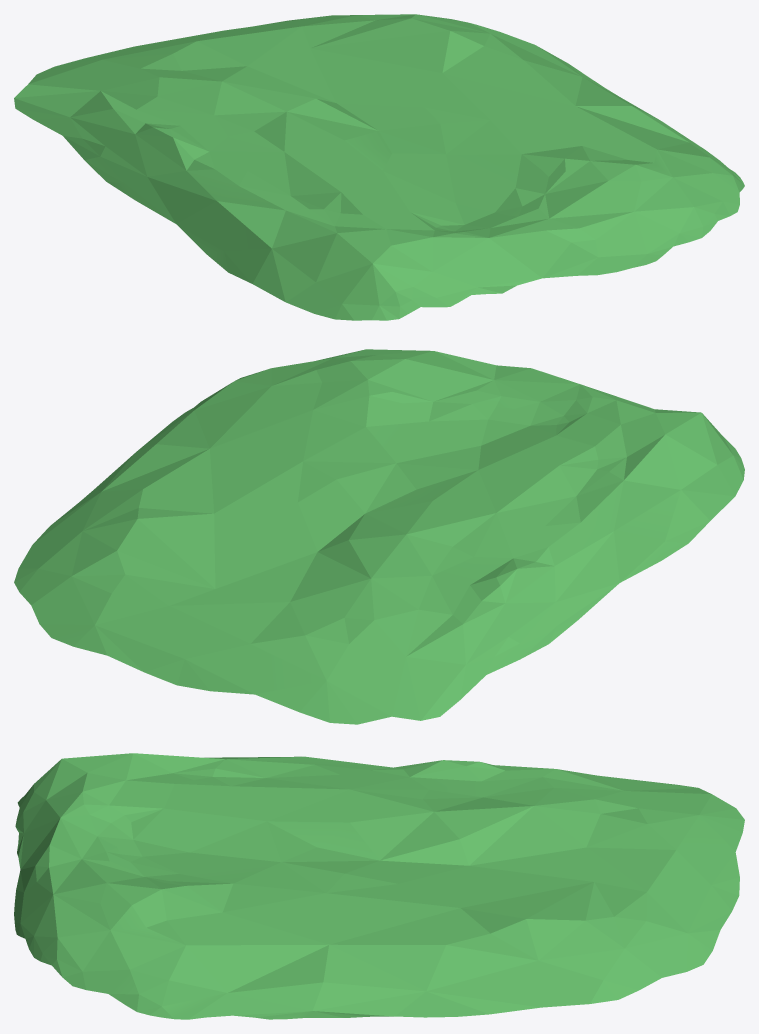
The model's file is ground.079.fbx.
3 views of the same model, one above another, from view 1: azimuth 30°, elevation 25°; view 2: azimuth 150°, elevation 25°; view 3: azimuth 270°, elevation 25° (orthographic). The views are drawn at different scales.
Visible parts, largest first — view 1: ground_079; view 2: ground_079; view 3: ground_079.
Boxes of the visible parts, x1,y1,x2,y2 form: ground_079: (14,14,744,320); ground_079: (14,349,744,724); ground_079: (14,753,744,1019).
Size of the model in its own units: 13857 by 1667 by 17764.
